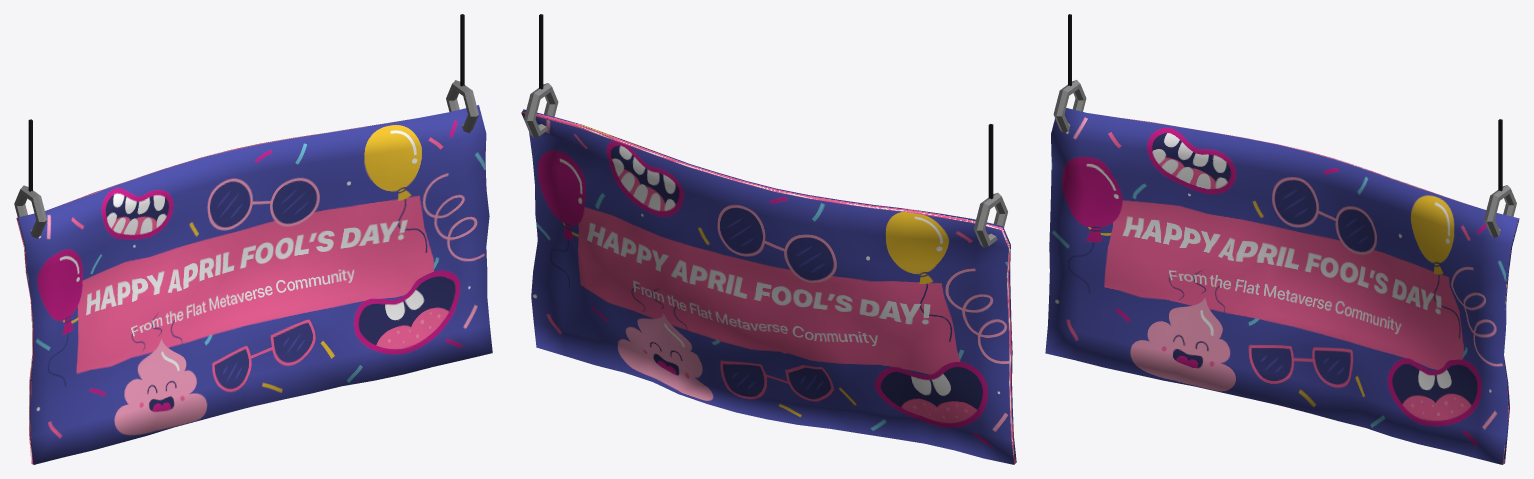
The model's file is banner.glb.
The picture shows the model from 3 angles, left to right: view 1: azimuth 30°, elevation 25°; view 2: azimuth 150°, elevation 25°; view 3: azimuth 330°, elevation 25°; orthographic projection. The views are drawn at different scales.
Visible parts, largest first — view 1: Cube.298; view 2: Cube.298; view 3: Cube.298.
Part boxes in pixels (bbox=[...]): Cube.298: bbox=[14, 14, 492, 464]; Cube.298: bbox=[521, 14, 1016, 464]; Cube.298: bbox=[1045, 14, 1519, 464].
Bounding box in the file's own units: 24.12 × 16.94 × 2.98.
2 materials, 2 textured.
